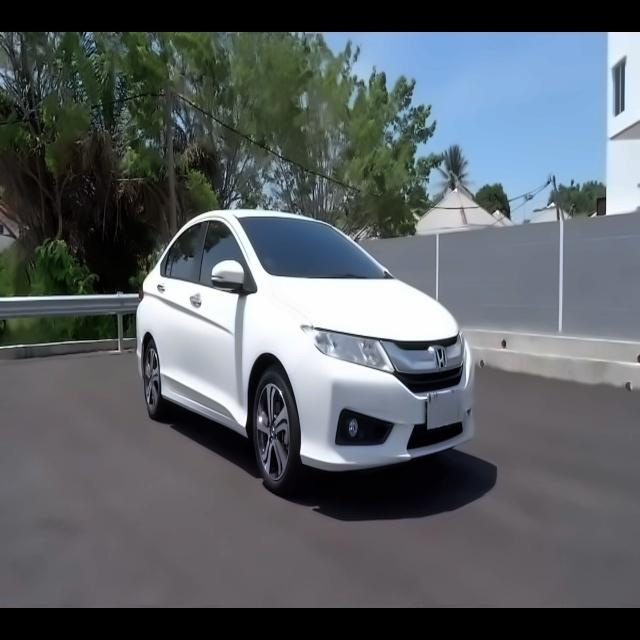Car hood: (267, 274, 461, 342)
Driver-s door - -F-R-: (190, 210, 251, 425)
Fender - -F-R-: (245, 268, 311, 435)
Fender - -R-R-: (140, 282, 162, 400)
Front bumper: (297, 369, 482, 475)
Headlight - -L-: (452, 322, 476, 359)
Headlight - -R-: (295, 321, 399, 375)
Passenger-s door - -R-R-: (154, 210, 195, 402)
Rear bumper: (129, 337, 149, 387)
Rear light - -R-: (134, 273, 148, 309)
Side bumper - -R-: (156, 375, 253, 444)
Side mirror - -R-: (205, 253, 247, 297)
